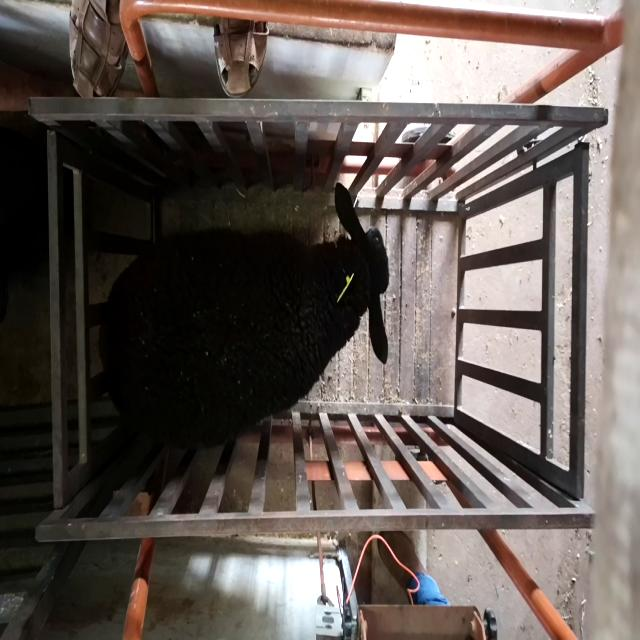sheep: (99, 183, 389, 449)
